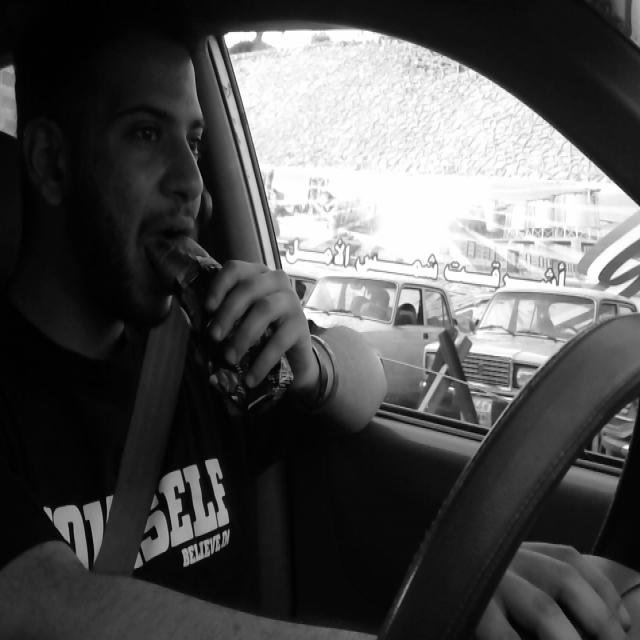eating: (147, 222, 289, 412)
